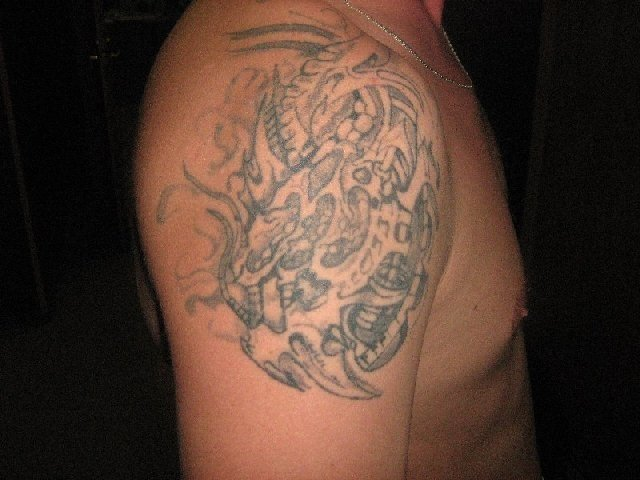tatu6_drakon: (160, 20, 461, 426)
